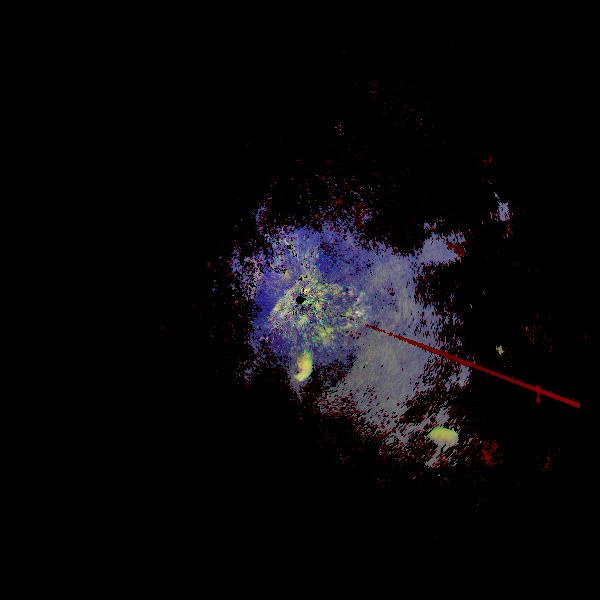roost: (411, 420, 474, 483), (274, 343, 319, 388), (330, 288, 375, 333)
